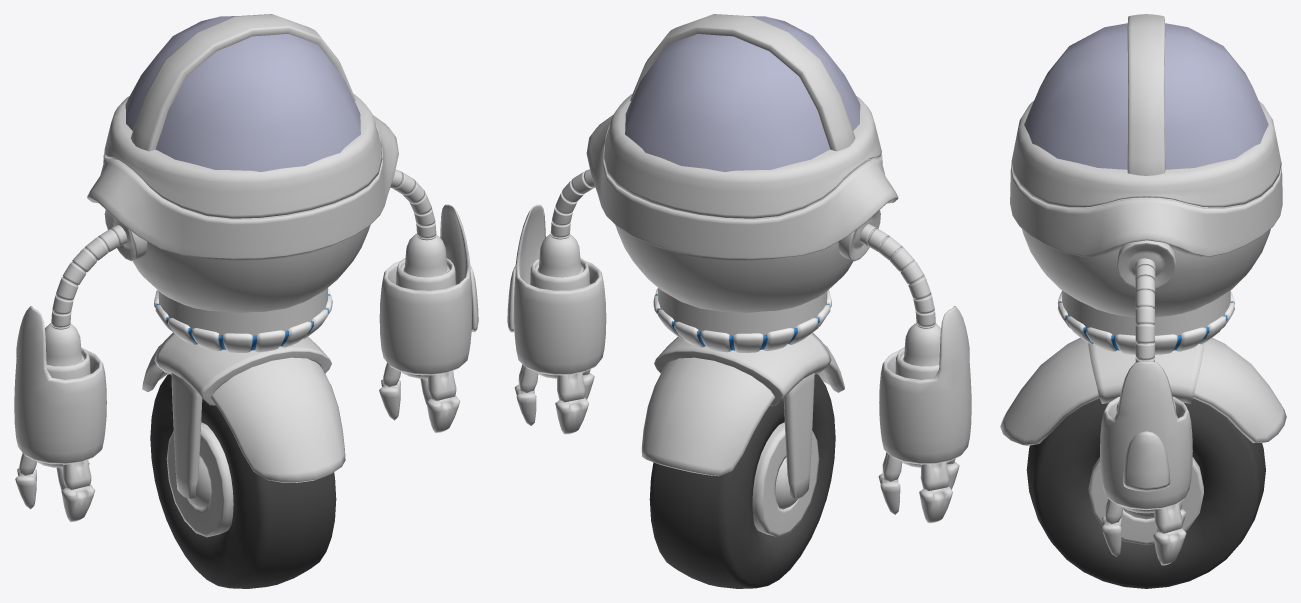
File: subdivided.obj
The picture shows the model from 3 angles, left to right: view 1: azimuth 30°, elevation 25°; view 2: azimuth 150°, elevation 25°; view 3: azimuth 270°, elevation 25°; orthographic projection.
Visible parts, largest first — view 1: Cube, Generic, glass, engine; view 2: Cube, Generic, glass, engine; view 3: Generic, Cube, glass, engine.
Boxes of the visible parts, left/top/right/bottom form: Cube: left=14, top=94, right=471, bottom=521; Generic: left=51, top=14, right=478, bottom=588; glass: left=125, top=16, right=360, bottom=171; engine: left=154, top=288, right=332, bottom=352; Cube: left=514, top=93, right=971, bottom=523; Generic: left=507, top=14, right=935, bottom=588; glass: left=625, top=16, right=860, bottom=172; engine: left=653, top=288, right=831, bottom=352; Generic: left=1000, top=14, right=1286, bottom=588; Cube: left=1010, top=101, right=1282, bottom=565; glass: left=1024, top=23, right=1268, bottom=169; engine: left=1058, top=291, right=1234, bottom=354.
Bounding box in the file's own units: 1.95 × 2.27 × 1.07.
